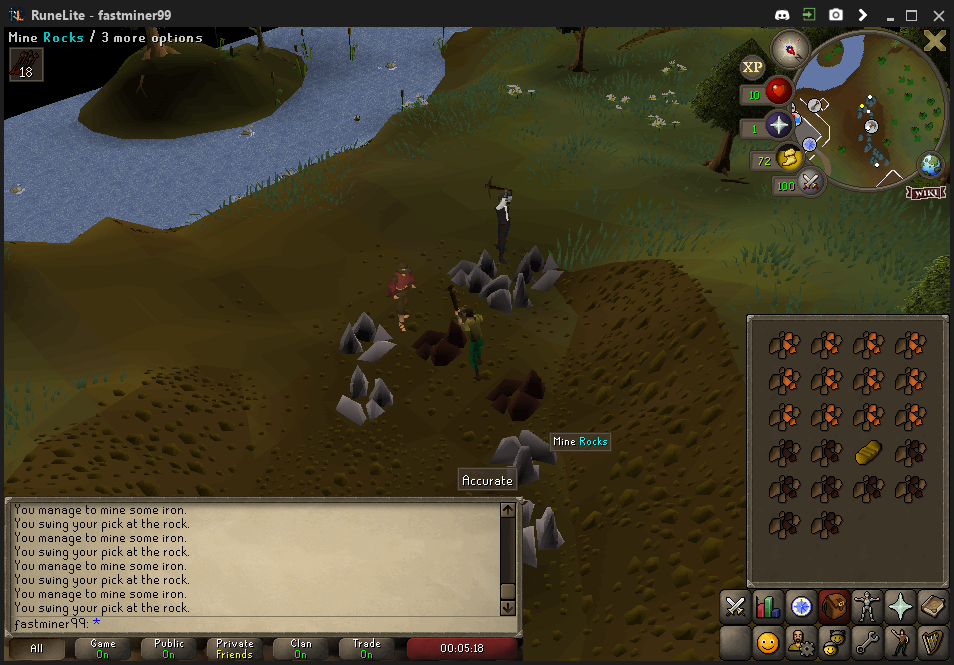ore: (489, 366, 548, 420), (412, 318, 469, 368)
